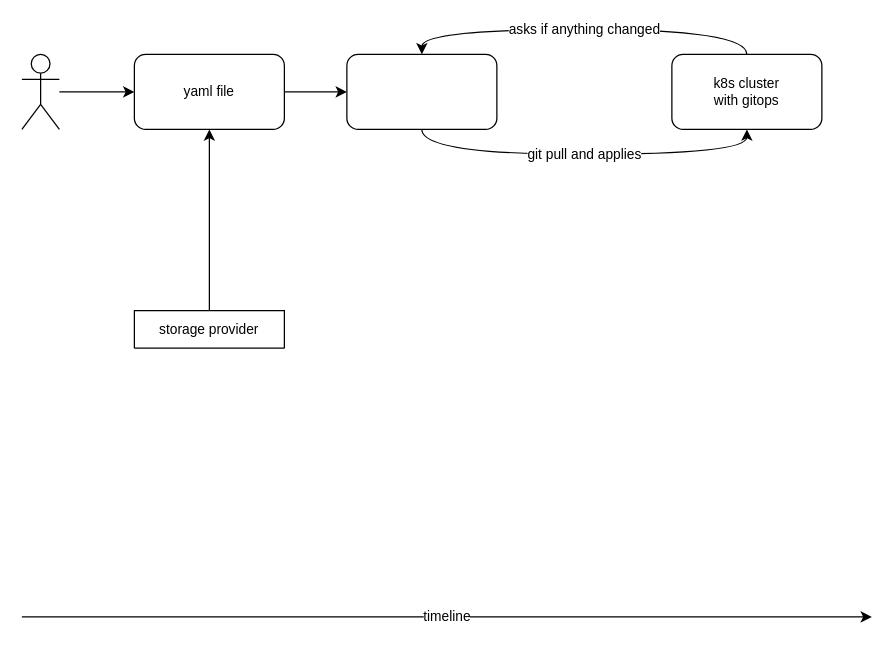
Some shapes in this 893 by 646 pixel diagram are drawn without their labels. Each missing label, with the centre of its shape:
"Actor" goes at point 40,91.
"store in git" goes at point 421,91.
